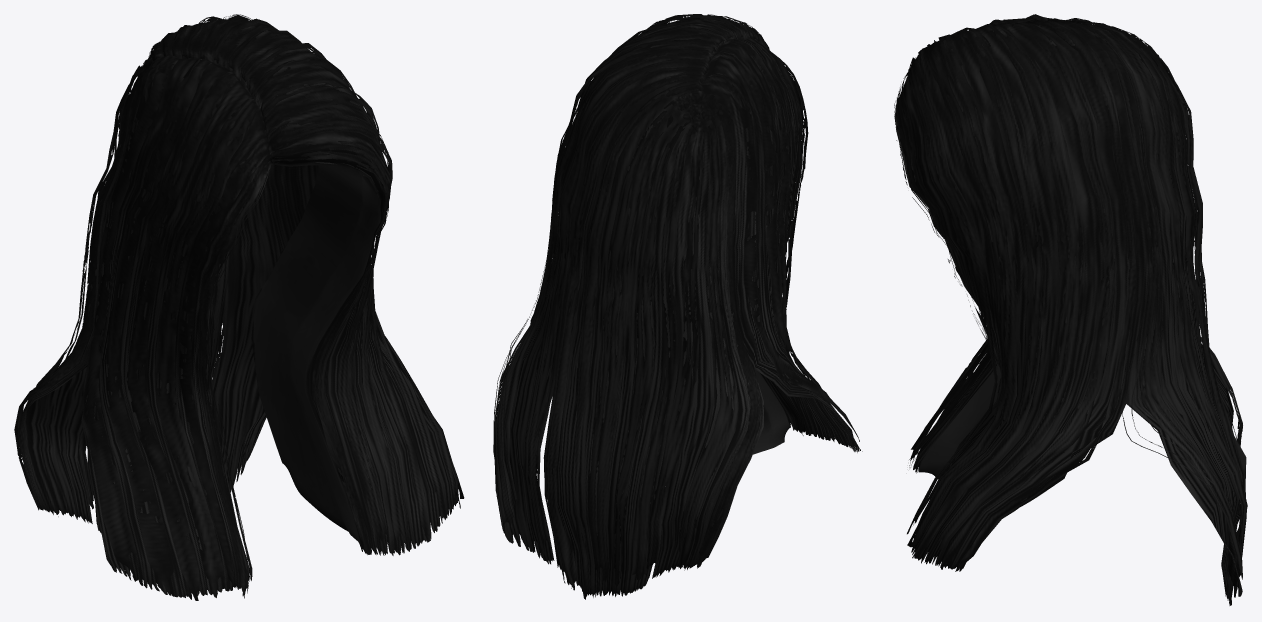
Rendered from mh_culturalibre_hair_01.glb.
3 renders of one model, left to right at view 1: azimuth 30°, elevation 25°; view 2: azimuth 150°, elevation 25°; view 3: azimuth 270°, elevation 25°, orthographic. The views are drawn at different scales.
Parts seen in each view (by area): view 1: mh_culturalibre_hair_01; view 2: mh_culturalibre_hair_01; view 3: mh_culturalibre_hair_01.
Boxes of the visible parts, x1,y1,x2,y2 form: mh_culturalibre_hair_01: (14, 14, 464, 600); mh_culturalibre_hair_01: (493, 14, 862, 599); mh_culturalibre_hair_01: (894, 14, 1247, 605).
Bounding box in the file's own units: 0.3068 × 0.4956 × 0.2773.
Materials: 1 (1 with a texture image).
